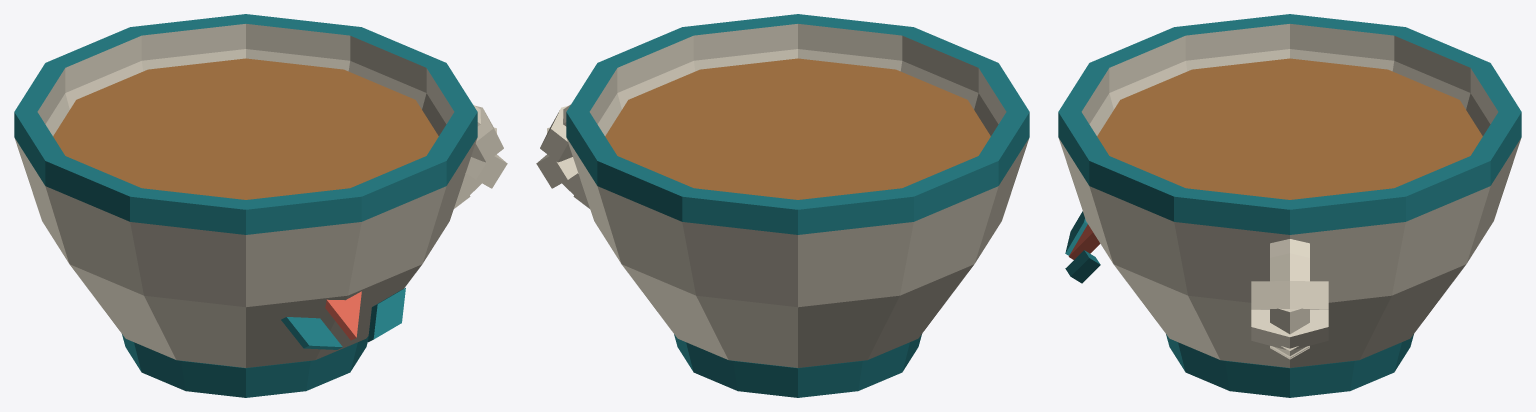
Rendered from teacup.glb.
The picture shows the model from 3 angles, left to right: view 1: azimuth 30°, elevation 25°; view 2: azimuth 150°, elevation 25°; view 3: azimuth 270°, elevation 25°; orthographic projection.
Parts seen in each view (by area): view 1: teacup; view 2: teacup; view 3: teacup.
Part boxes in pixels (box(x1,y1,x2,y2)): teacup: box(14, 14, 507, 397); teacup: box(536, 14, 1029, 397); teacup: box(1058, 14, 1521, 397).
Size of the model in its own units: 0.1126 by 0.056 by 0.1.
